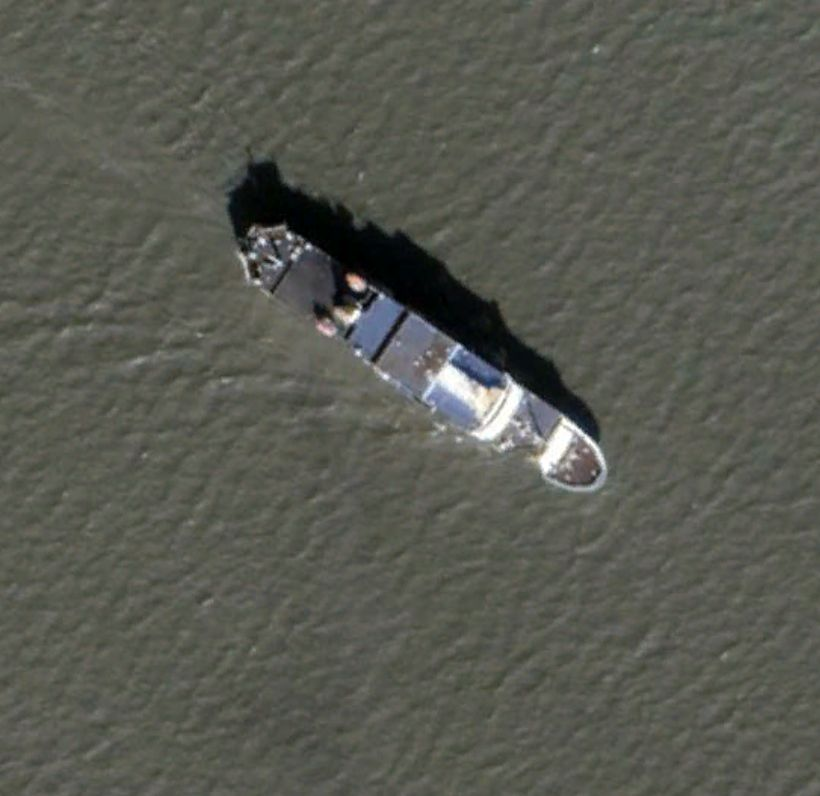boat: (234, 220, 610, 495)
